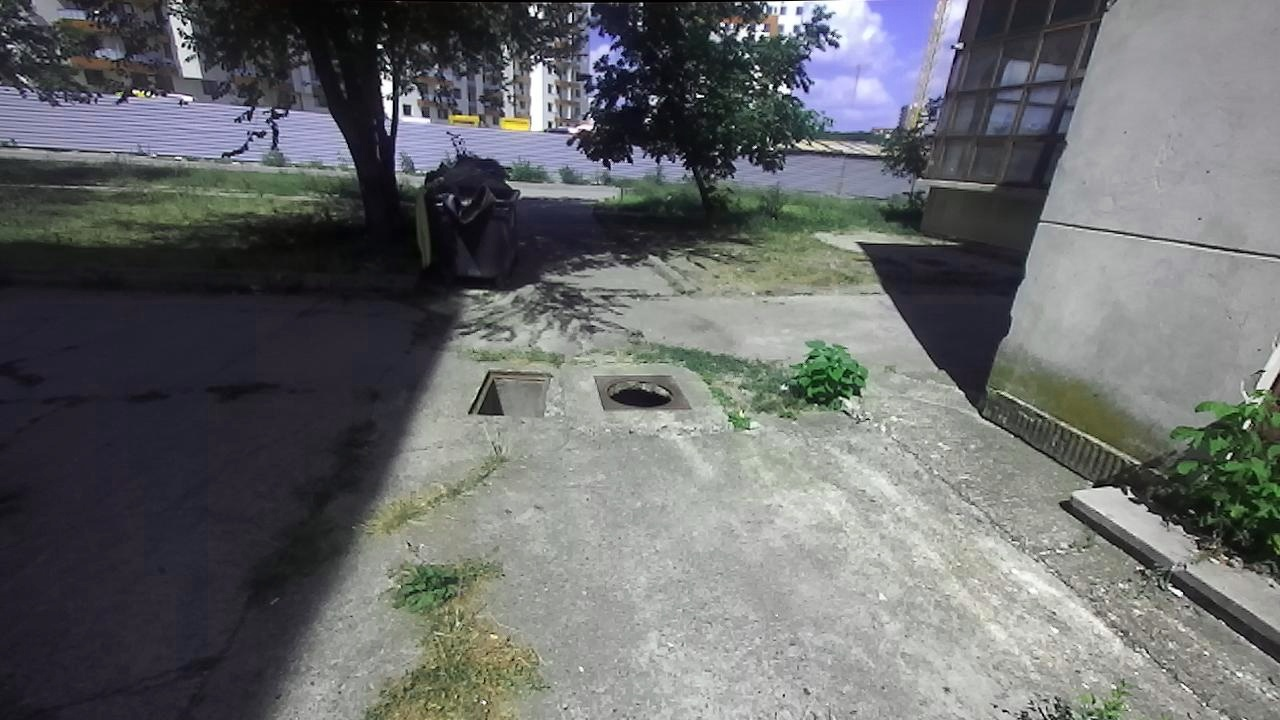drain: (464, 369, 556, 419), (602, 374, 678, 407)
